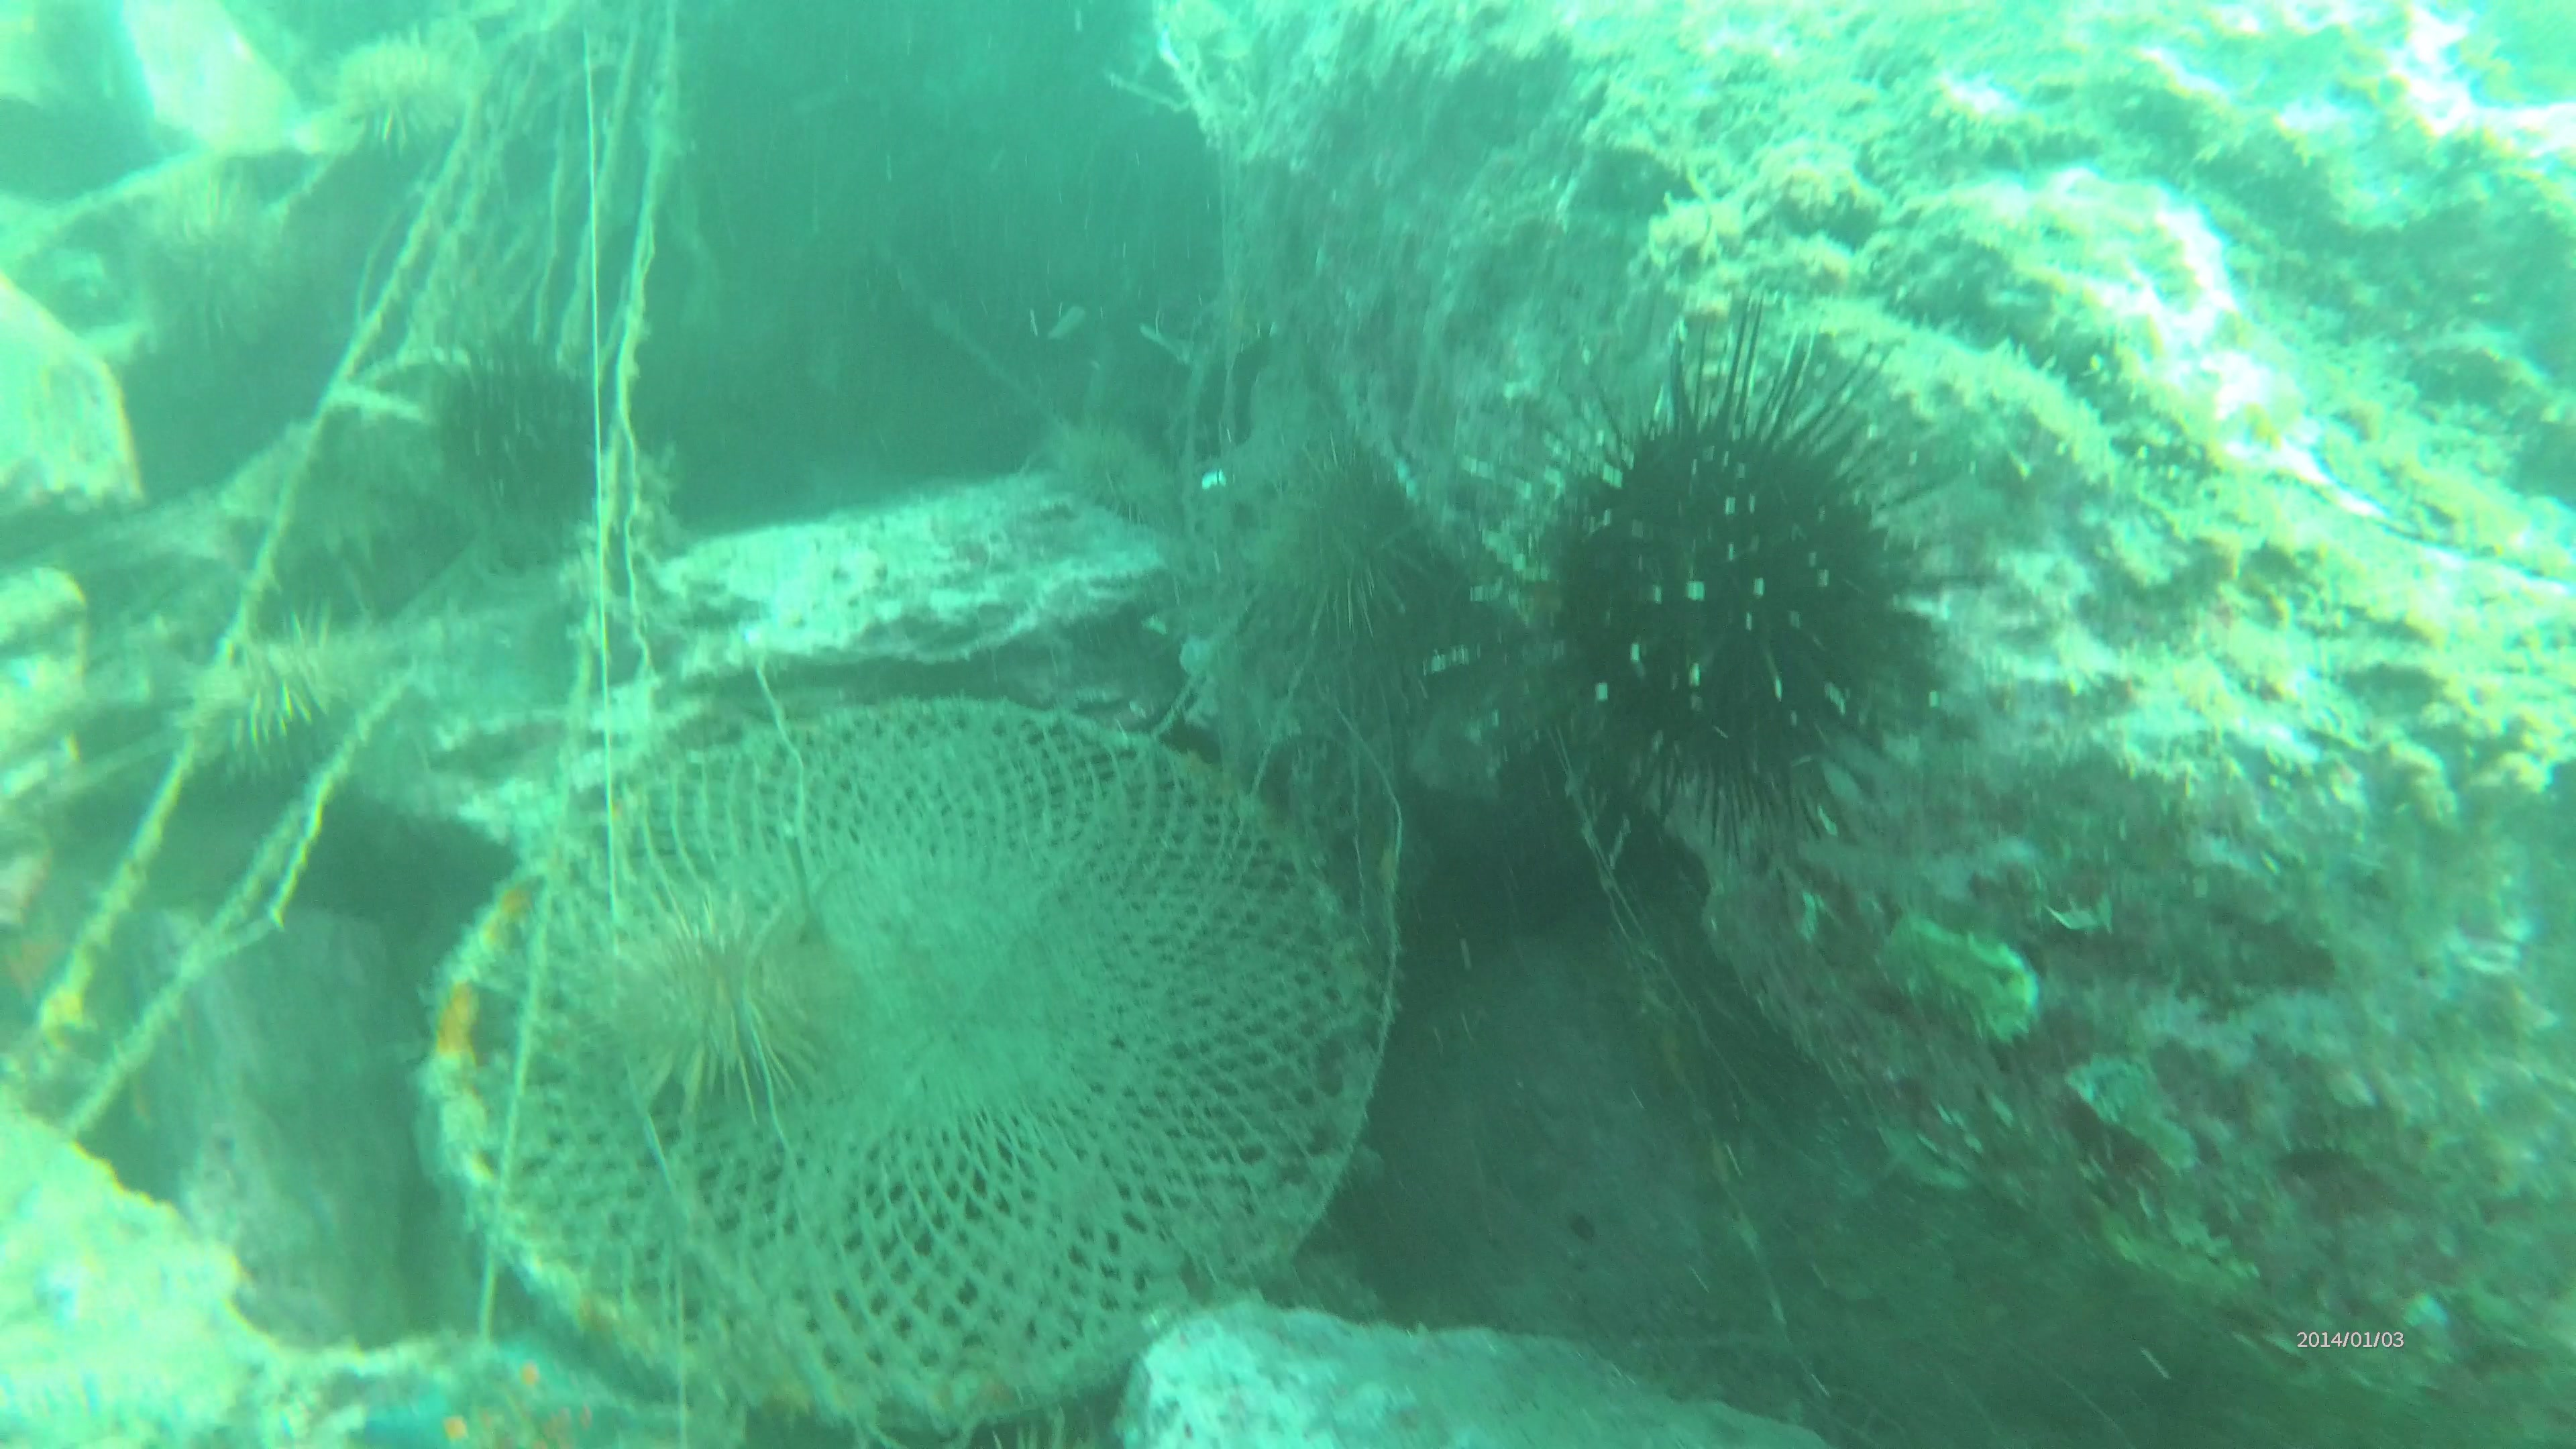echinus: (1566, 349, 1932, 759), (609, 906, 840, 1092), (1256, 455, 1440, 653), (136, 184, 306, 345), (202, 617, 375, 771), (441, 347, 593, 492), (327, 37, 476, 156)
holothurian: (1884, 216, 2217, 478), (1780, 292, 2121, 501)
starfish: (479, 1329, 603, 1449), (356, 1371, 513, 1449), (7, 909, 92, 1024)
